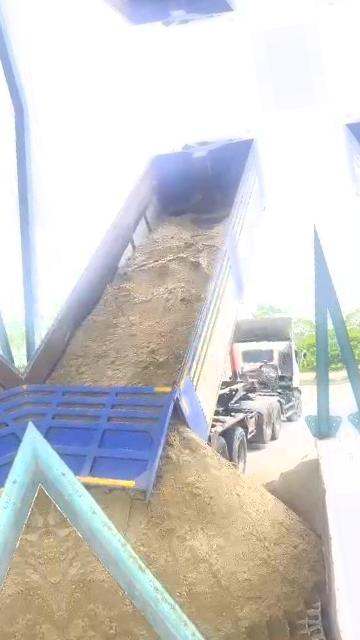sand: (92, 428, 323, 640), (48, 216, 223, 386), (47, 518, 162, 640), (265, 449, 327, 551)
